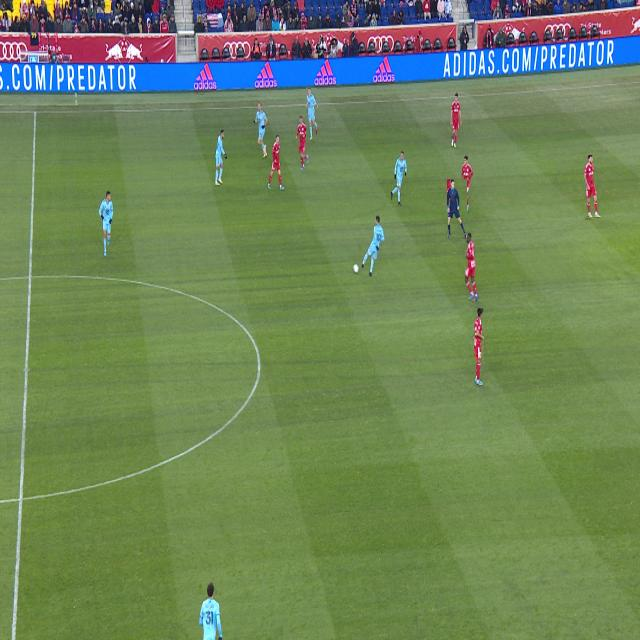football: (353, 264, 359, 273)
player: (199, 583, 223, 640), (362, 216, 384, 276), (584, 155, 601, 218), (465, 233, 478, 302), (99, 192, 113, 256), (391, 152, 407, 208), (268, 135, 284, 190), (253, 103, 268, 159), (474, 309, 484, 385), (215, 130, 227, 186), (296, 116, 308, 170), (450, 93, 462, 147), (462, 155, 473, 212), (307, 88, 317, 141), (464, 198, 466, 205)
referee: (447, 179, 467, 239)
